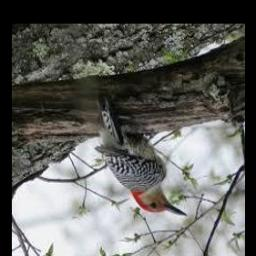Woodpecker: (96, 97, 188, 217)
